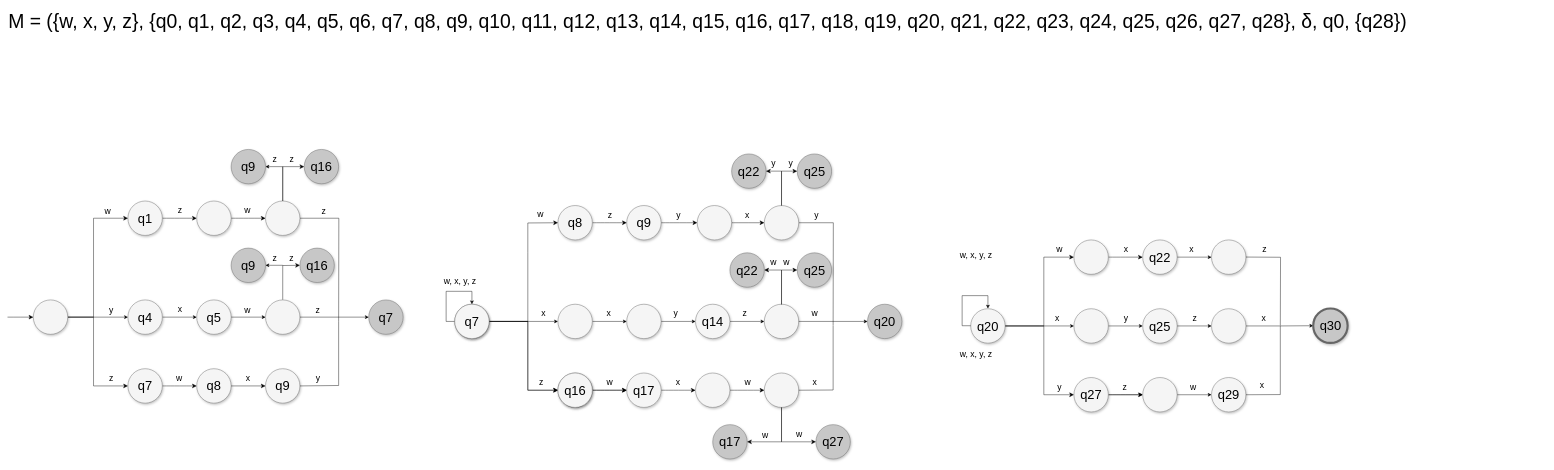
This 1554x470 diagram has some shape labels left out. Here are the shapes that lost their labels. From the top down, the centre of each, then its label:
the point at 214,218: q2
the point at 283,218: q3
the point at 714,223: q10
the point at 781,223: q11
the point at 1091,257: q21
the point at 1229,257: q23
the point at 50,317: q0
the point at 283,317: q6
the point at 575,322: q12
the point at 644,322: q13
the point at 781,322: q15
the point at 1091,326: q24
the point at 1229,326: q26
the point at 713,390: q18
the point at 781,390: q19
the point at 1160,395: q28
